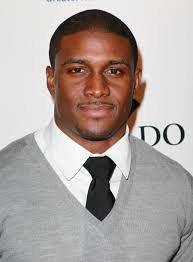Sober: (59, 37, 133, 132)
